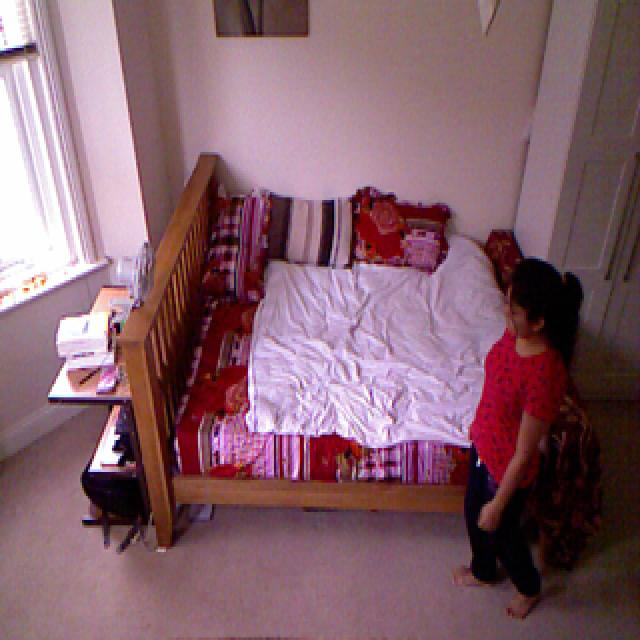standing: (464, 249, 580, 622)
